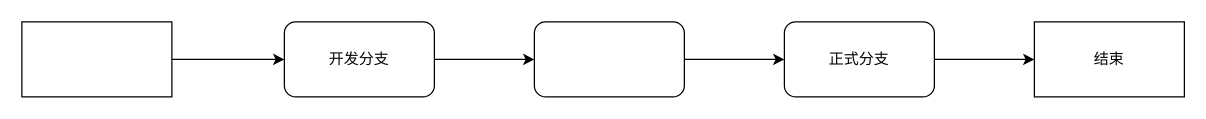
The diagram is 1206 pixels wide and 119 high, and some of its shapes have lost their labels. The centre of each missing label's shape, as x and y in pixels:
开发完成: (x=96, y=59)
测试分支: (x=608, y=59)
